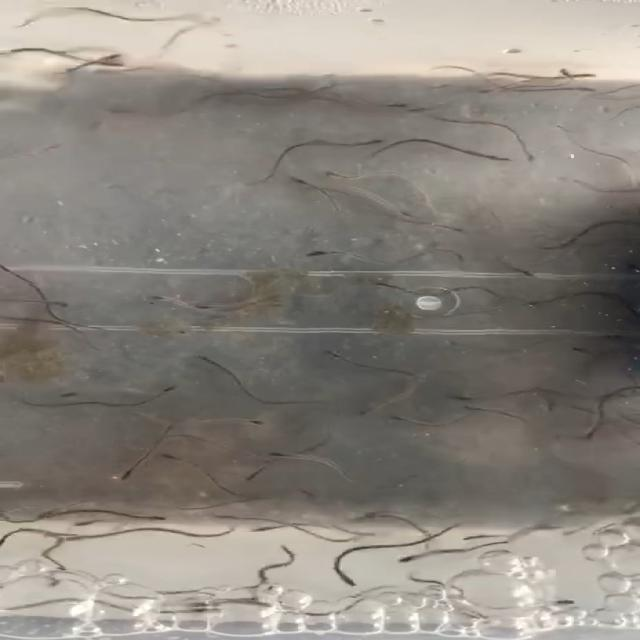active_glass_eel: (94, 496, 166, 523), (346, 120, 396, 156), (516, 62, 576, 90), (418, 210, 476, 236), (62, 376, 124, 400), (326, 558, 376, 584), (154, 384, 196, 413), (560, 477, 605, 503), (485, 123, 541, 143), (148, 60, 208, 78), (336, 238, 376, 263), (492, 253, 550, 270), (544, 447, 594, 466), (498, 416, 546, 435), (163, 284, 192, 314), (85, 531, 146, 545), (66, 57, 108, 77), (209, 365, 259, 381), (468, 388, 508, 408), (109, 63, 160, 78), (394, 276, 430, 297), (282, 445, 318, 465), (308, 128, 363, 141), (373, 394, 408, 414), (308, 191, 348, 208), (224, 294, 259, 313), (392, 138, 458, 148), (562, 323, 596, 342), (183, 462, 211, 483), (150, 87, 172, 112), (224, 416, 252, 434), (582, 344, 611, 361), (113, 456, 134, 479), (326, 165, 352, 182), (236, 458, 269, 471), (515, 298, 550, 310), (346, 100, 368, 116), (340, 84, 362, 100)
